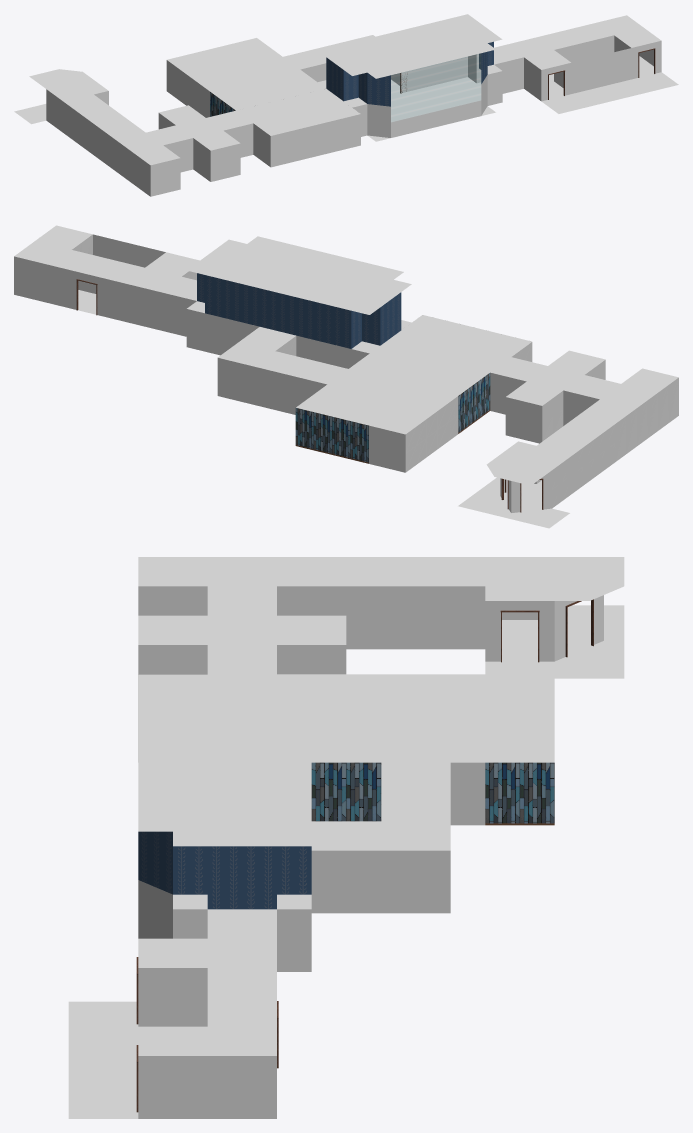
Rendered from grandplayarea2.fbx.
3 renders of one model, top to bottom at view 1: azimuth 30°, elevation 25°; view 2: azimuth 150°, elevation 25°; view 3: azimuth 270°, elevation 25°, orthographic. The views are drawn at different scales.
Parts seen in each view (by area): view 1: Grand Play Area 2; view 2: Grand Play Area 2; view 3: Grand Play Area 2.
Part boxes in pixels (x1,y1,x2,y2): Grand Play Area 2: (14,14,678,196); Grand Play Area 2: (14,225,678,528); Grand Play Area 2: (68,557,624,1118).
Bounding box in the file's own units: 54.69 × 25 × 6.25.
Materials: 7 (5 with a texture image).
